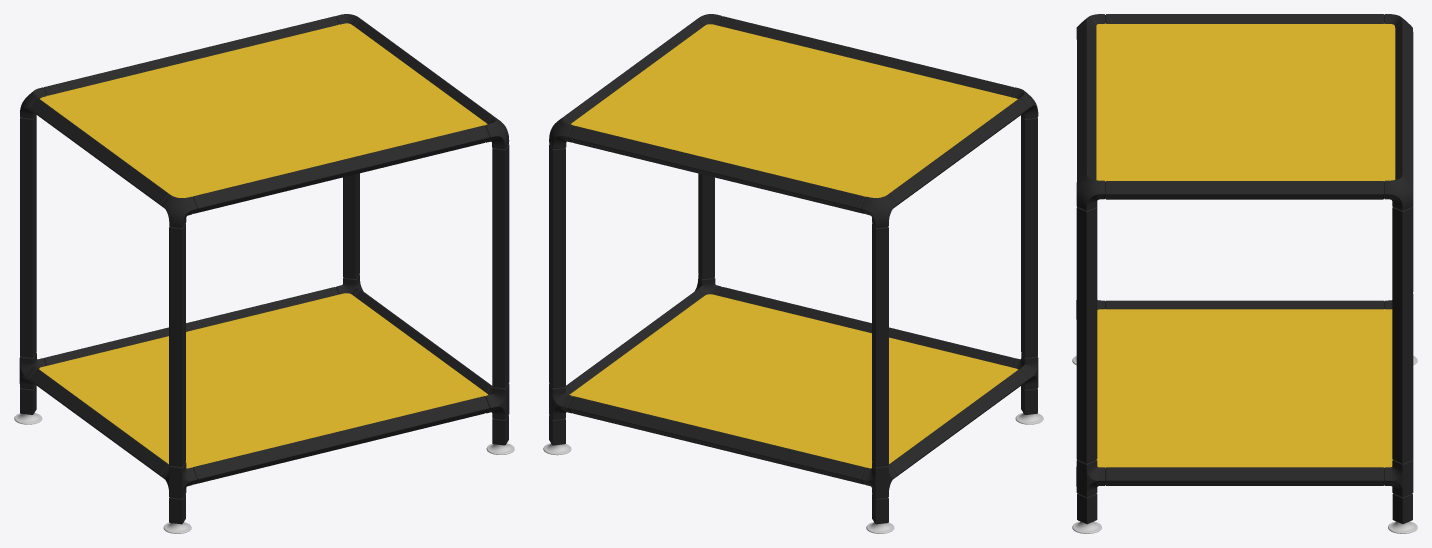
3 renders of one model, left to right at view 1: azimuth 30°, elevation 25°; view 2: azimuth 150°, elevation 25°; view 3: azimuth 270°, elevation 25°, orthographic. The views are drawn at different scales.
Visible parts, largest first — view 1: 479x374x374; view 2: 479x374x374; view 3: 479x374x374.
Part boxes in pixels (left/top/right/bottom): 479x374x374: left=14, top=14, right=514, bottom=533; 479x374x374: left=543, top=14, right=1043, bottom=533; 479x374x374: left=1072, top=14, right=1417, bottom=533.
Size of the model in its own units: 0.5689 by 0.5133 by 0.4632.
